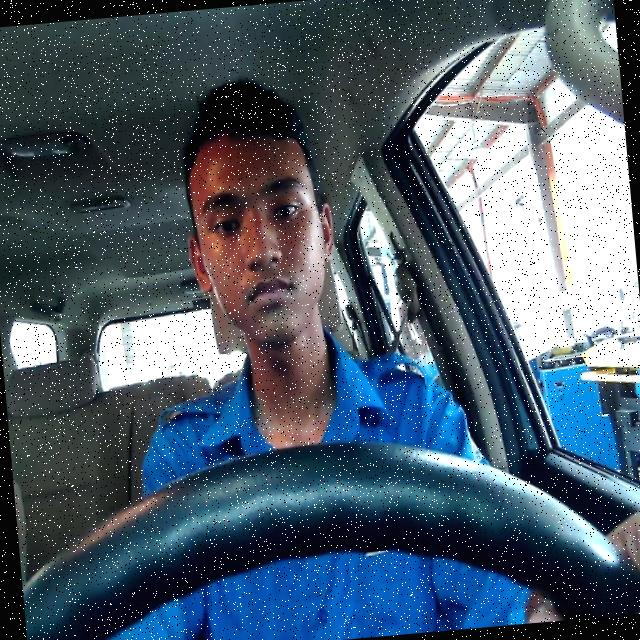focused: (178, 126, 342, 356)
